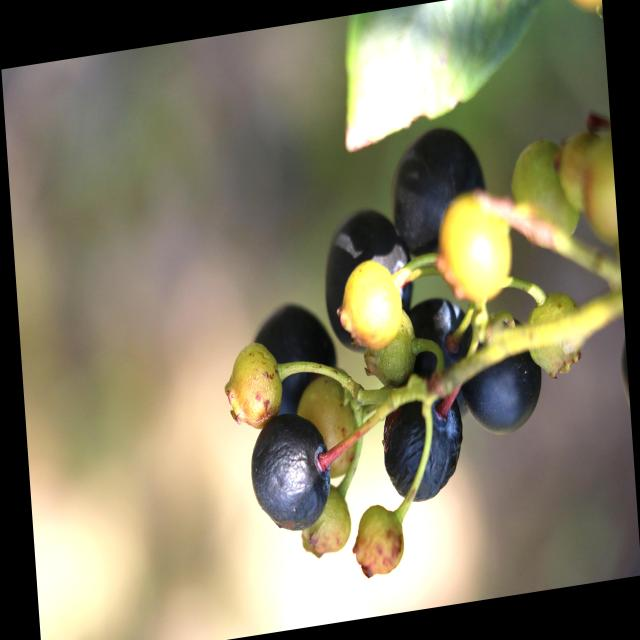blueberry: (384, 148, 501, 308), (441, 253, 548, 416), (328, 31, 432, 194), (282, 240, 379, 380), (331, 359, 425, 502), (263, 44, 356, 180), (338, 281, 438, 401)
blueberry-unripe: (436, 189, 514, 308), (509, 136, 582, 251), (293, 372, 360, 489), (558, 130, 618, 251), (336, 253, 404, 355), (224, 338, 286, 433), (524, 290, 584, 386), (355, 497, 406, 580), (300, 491, 355, 563)
